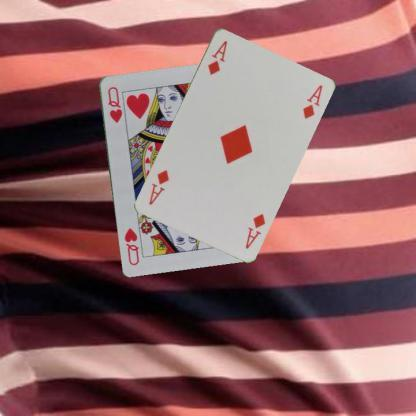Ad: (242, 210, 267, 250), (204, 37, 228, 76)
Qh: (105, 84, 124, 124)
